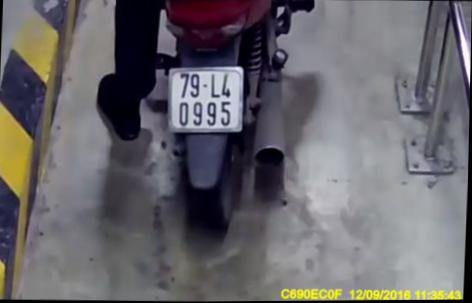LP: (168, 67, 245, 133)
